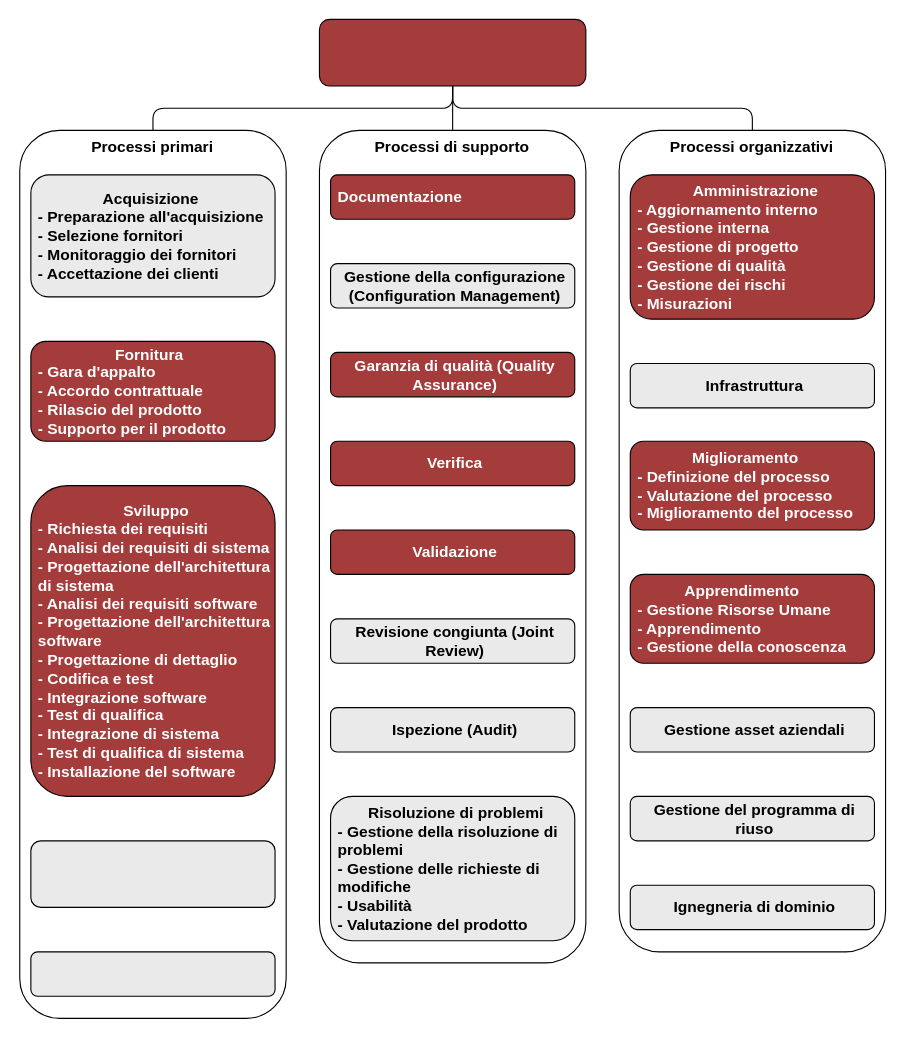
This 905x1038 diagram has some shape labels left out. The centre of each missing label's shape, as x and y in pixels:
"ISO/IEC 12207" goes at point (452, 52).
"Manutenzione" goes at point (152, 973).
"Operations - Uso operativo - Accettazione clienti" goes at point (152, 873).
